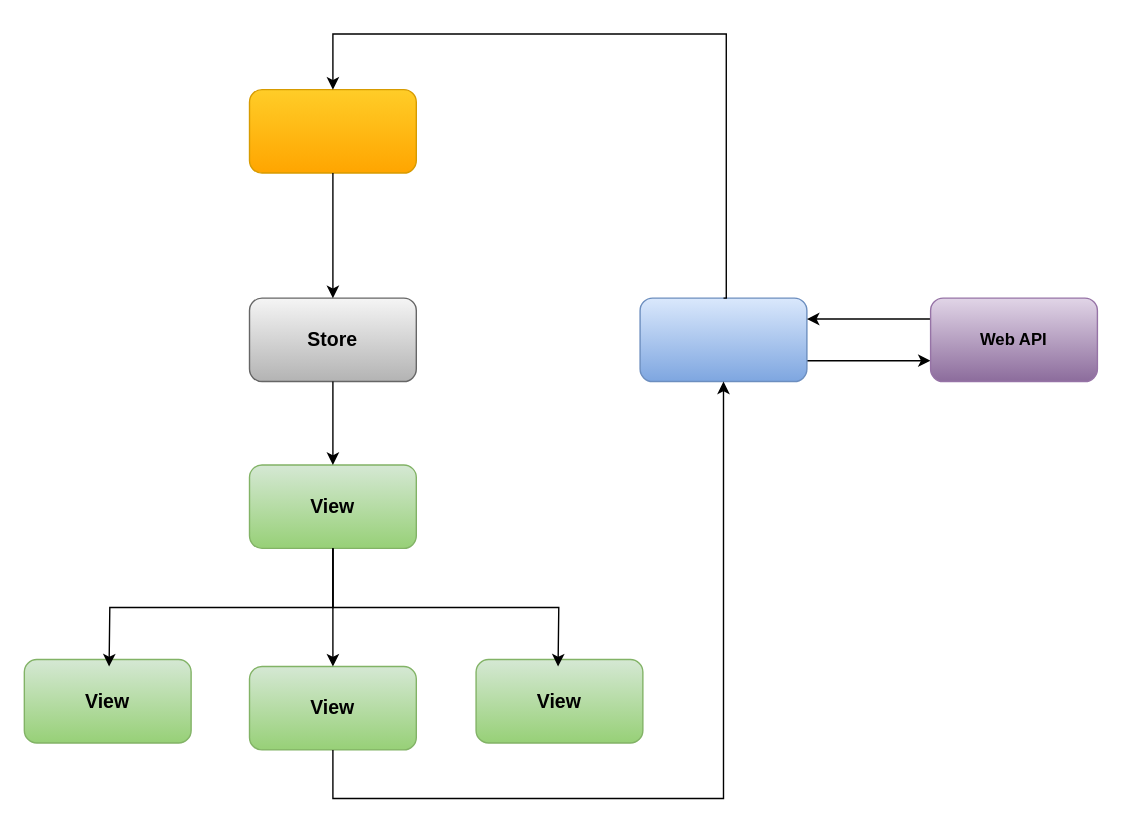
Image size: 1122x834. Some labels were removed from this diagram. The shapes that lost their labels are listed below. From the top down, each one's centre as x and y in pixels, then its label:
At pixel 332 130: "Dispatcher".
At pixel 723 339: "Action".
